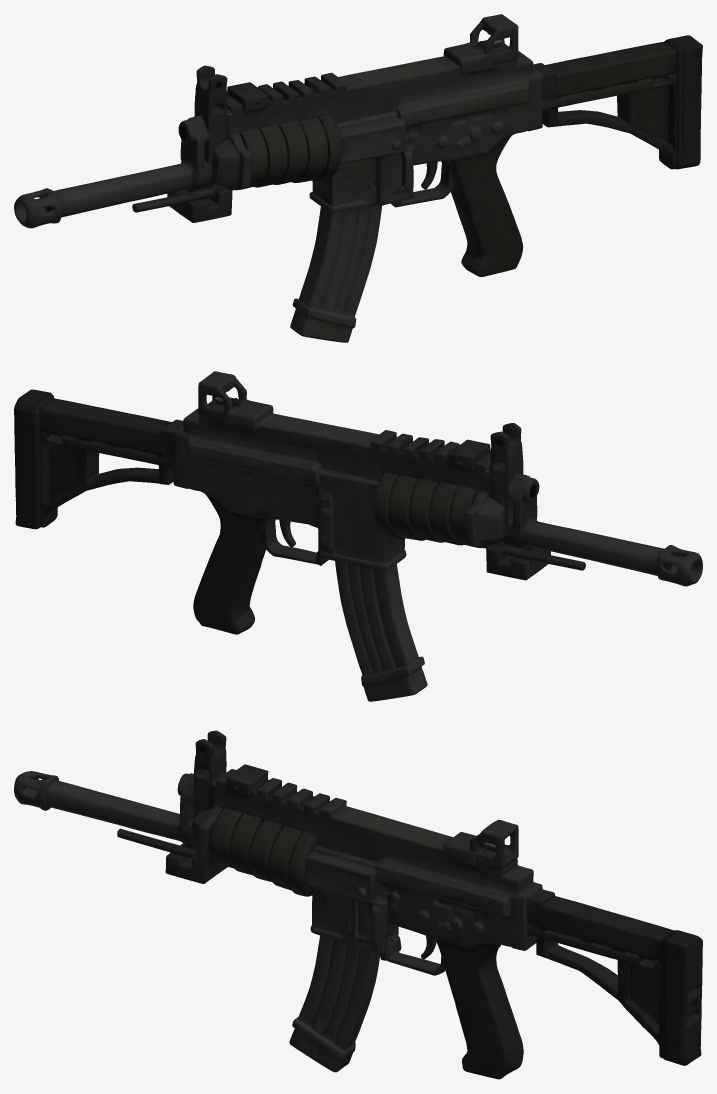
The model's file is smg.glb.
The picture shows the model from 3 angles, top to bottom: view 1: azimuth 30°, elevation 25°; view 2: azimuth 150°, elevation 25°; view 3: azimuth 330°, elevation 25°; orthographic projection.
Parts seen in each view (by area): view 1: geometry_0; view 2: geometry_0; view 3: geometry_0.
Part boxes in pixels (bbox=[...]): geometry_0: bbox=[14, 14, 702, 342]; geometry_0: bbox=[14, 371, 702, 701]; geometry_0: bbox=[14, 730, 702, 1079].
Size of the model in its own units: 0.65 by 0.2767 by 0.0772.
Materials: 1 (1 with a texture image).
